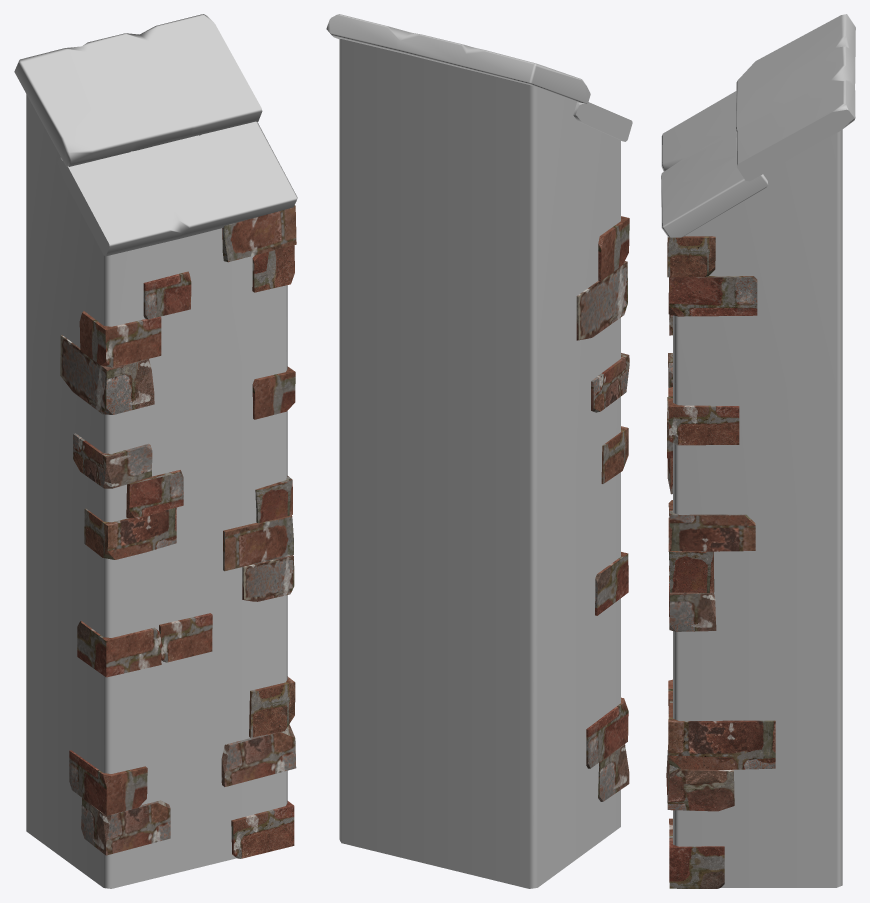
The model's file is SM_Buttress_02.fbx.
3 views of the same model, side by side, from view 1: azimuth 30°, elevation 25°; view 2: azimuth 150°, elevation 25°; view 3: azimuth 270°, elevation 25° (orthographic). The views are drawn at different scales.
Parts seen in each view (by area): view 1: SM_Buttress_02_LOD0; view 2: SM_Buttress_02_LOD0; view 3: SM_Buttress_02_LOD0.
Boxes of the visible parts, <box> form: SM_Buttress_02_LOD0: <box>14,14,297,888</box>; SM_Buttress_02_LOD0: <box>326,14,632,888</box>; SM_Buttress_02_LOD0: <box>661,14,855,888</box>.
Size of what is drawn, in the model's own units: 162 by 624 by 141.
